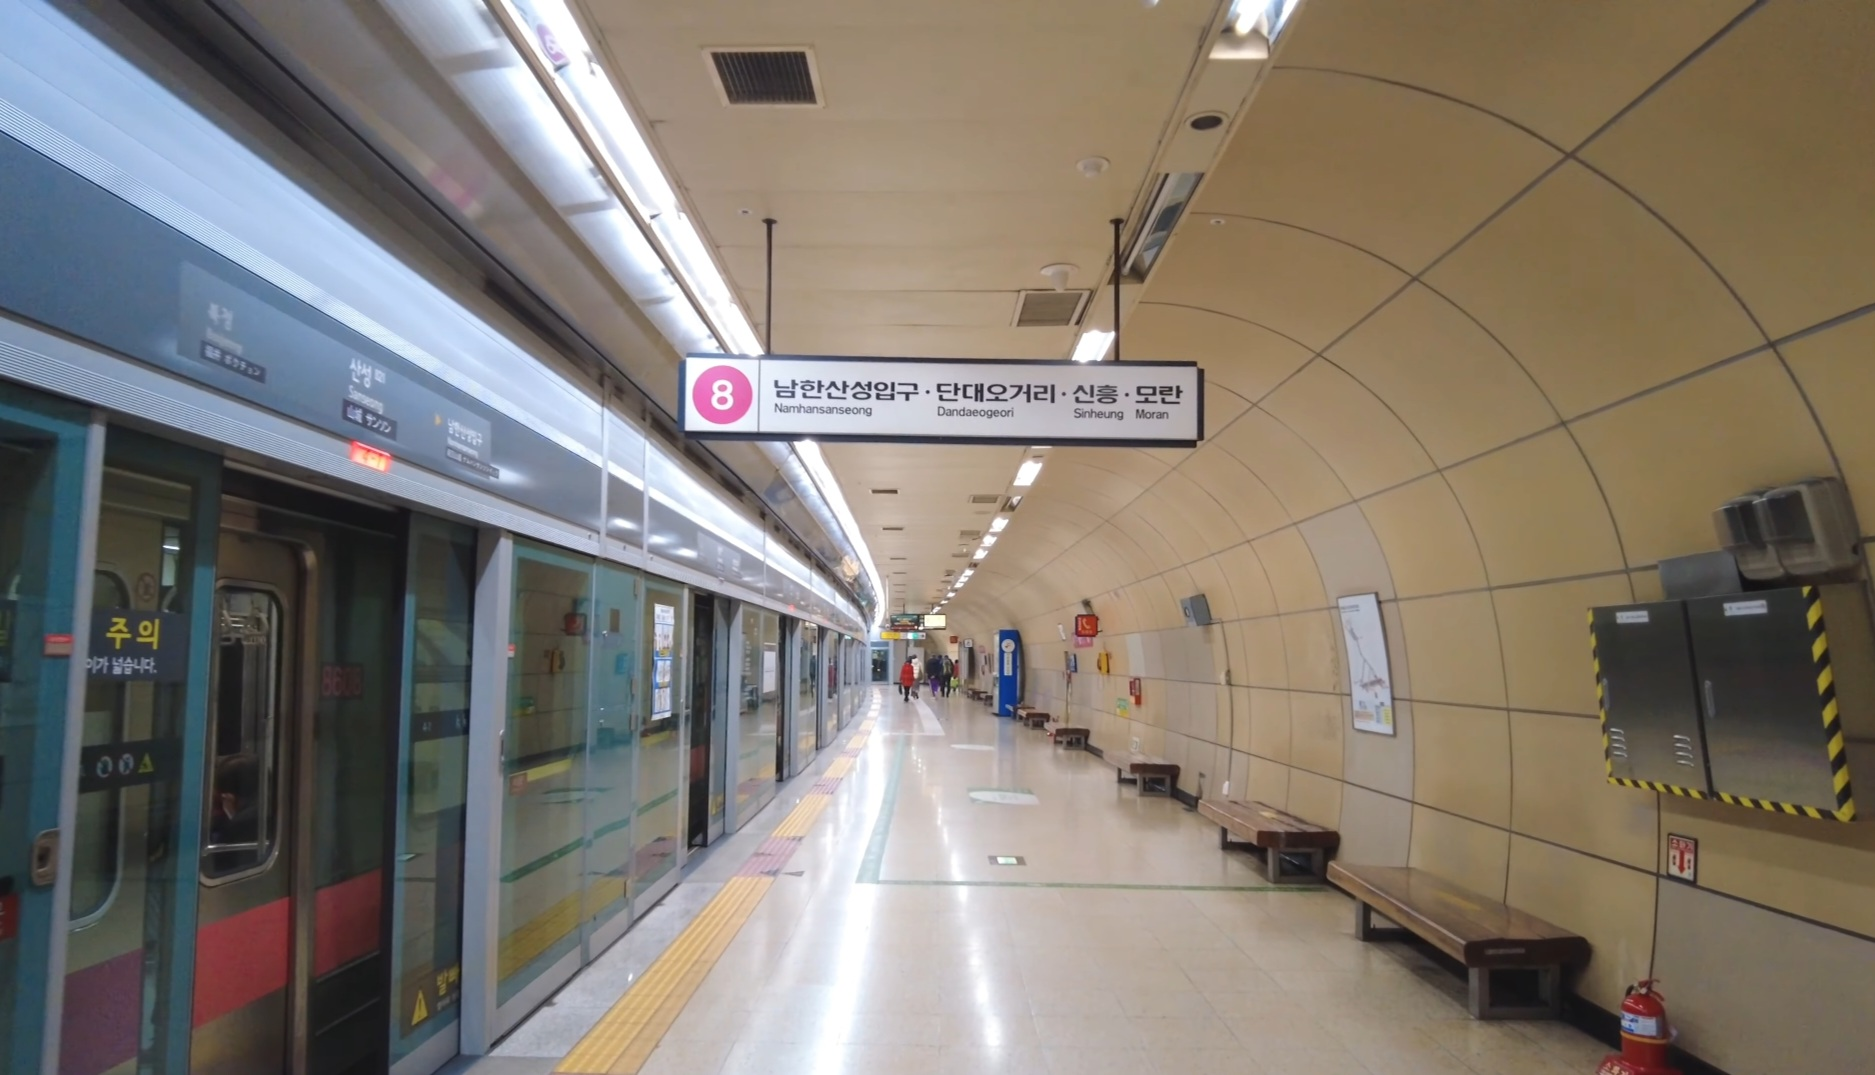signBoard: (664, 342, 1220, 458)
